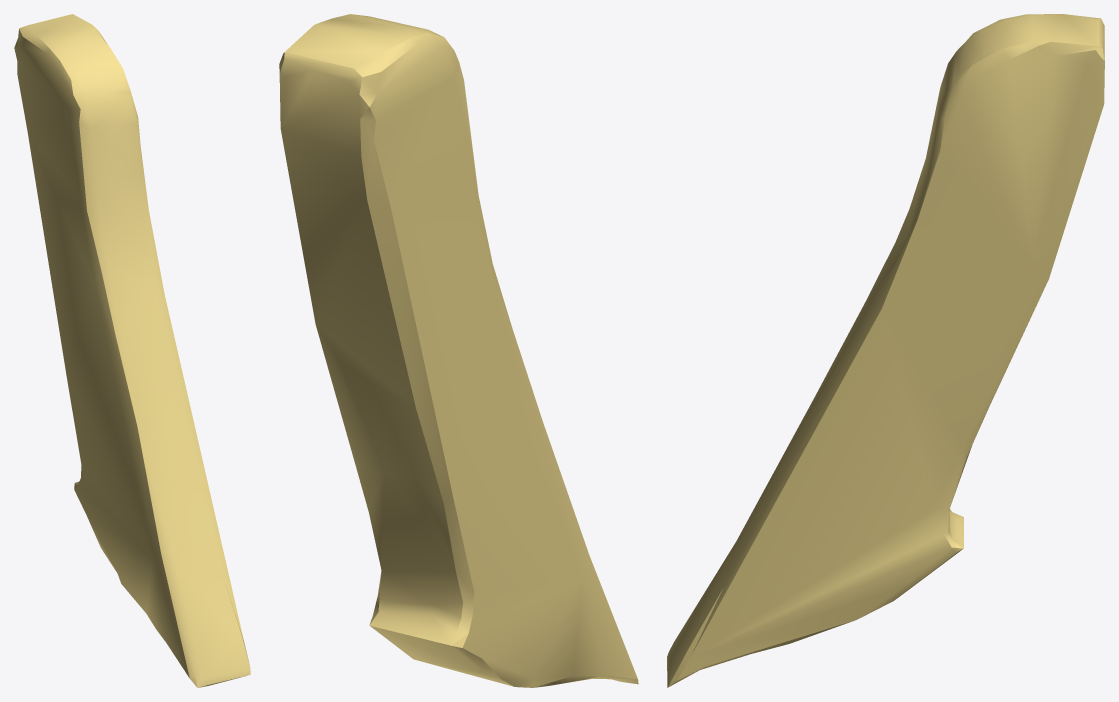
File: fma61975_fj1764.glb
3 views of the same model, side by side, from view 1: azimuth 30°, elevation 25°; view 2: azimuth 150°, elevation 25°; view 3: azimuth 270°, elevation 25° (orthographic). The views are drawn at different scales.
Visible parts, largest first — view 1: FMA61975_FJ1764; view 2: FMA61975_FJ1764; view 3: FMA61975_FJ1764.
Part boxes in pixels (x1=…): FMA61975_FJ1764: x1=14, y1=14, x2=250, y2=687; FMA61975_FJ1764: x1=279, y1=14, x2=638, y2=687; FMA61975_FJ1764: x1=667, y1=14, x2=1104, y2=687.
Size of the model in its own units: 0.00141 by 0.0119 by 0.00729.
